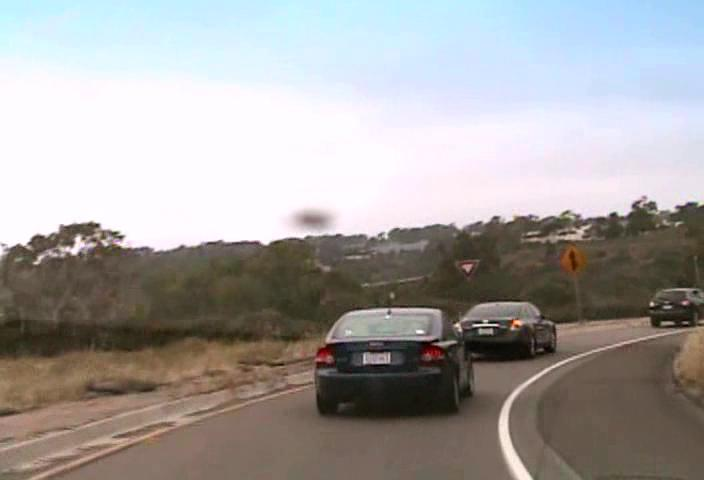merge: (557, 242, 588, 277)
